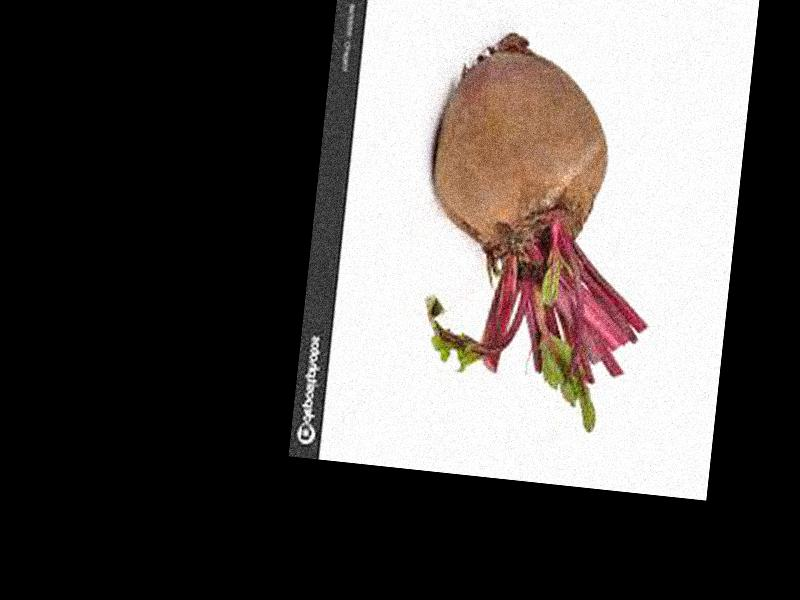Beet: (404, 25, 676, 436)
